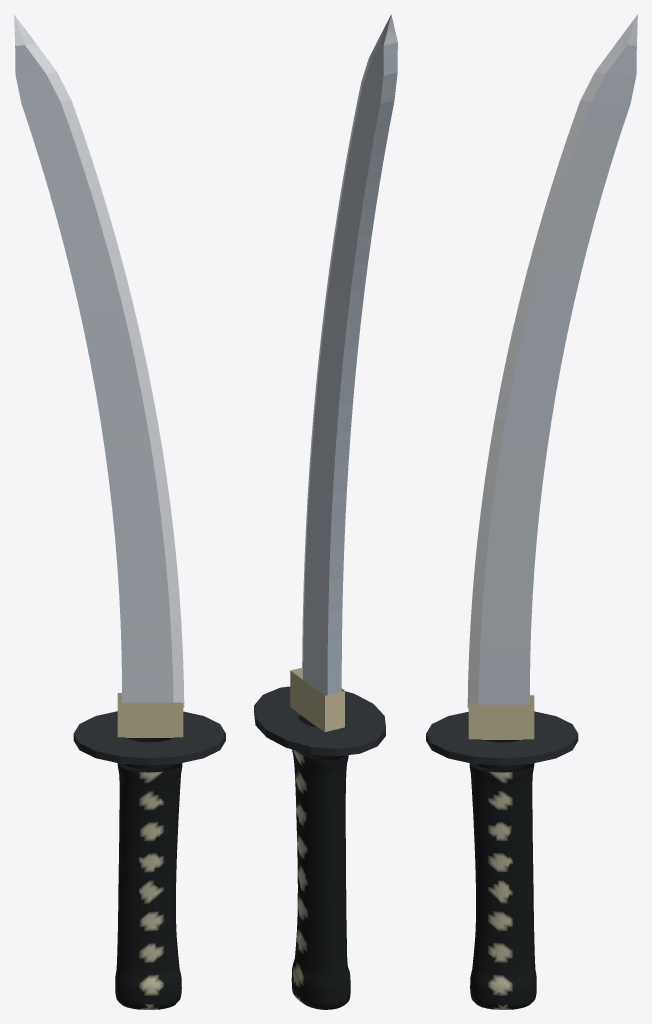
Rendered from blade.glb.
3 views of the same model, side by side, from view 1: azimuth 90°, elevation 25°; view 2: azimuth 210°, elevation 25°; view 3: azimuth 270°, elevation 25° (orthographic). The views are drawn at different scales.
Parts seen in each view (by area): view 1: weapon; view 2: weapon; view 3: weapon.
Part boxes in pixels (x1,y1,x2,y2): weapon: (14, 14, 225, 1009); weapon: (254, 14, 397, 1009); weapon: (426, 14, 637, 1009).
Bounding box in the file's own units: 0.0845 × 0.784 × 0.1523.
